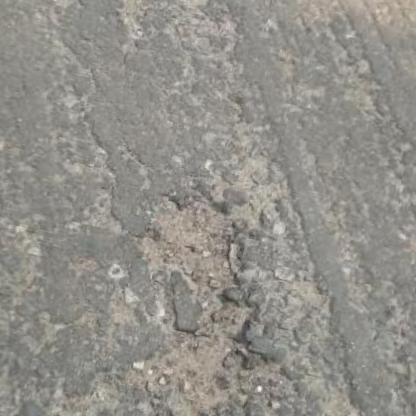pothole: (110, 186, 301, 416)
